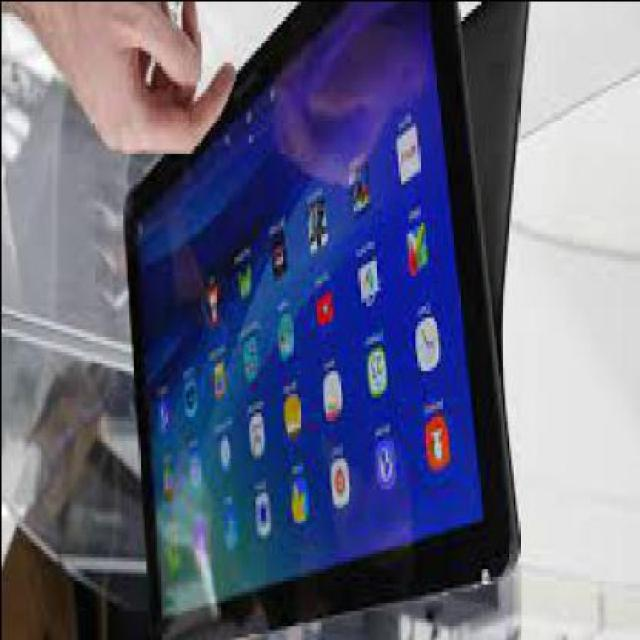tablet: (91, 0, 518, 631)
